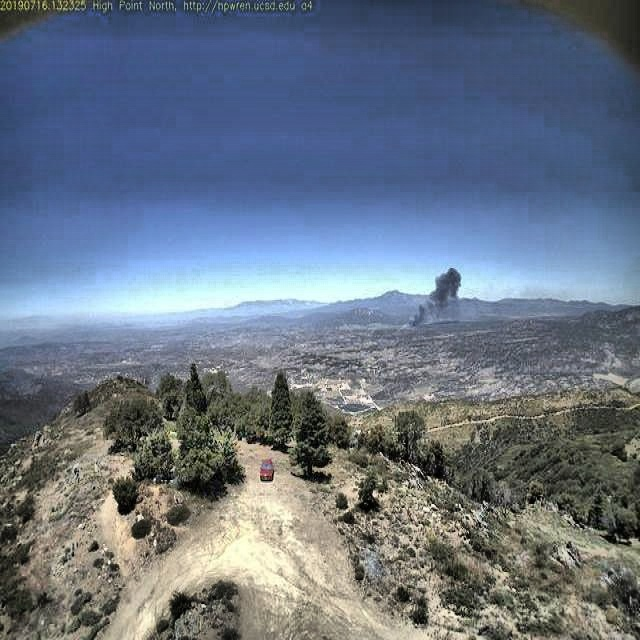smoke: (399, 263, 463, 328)
